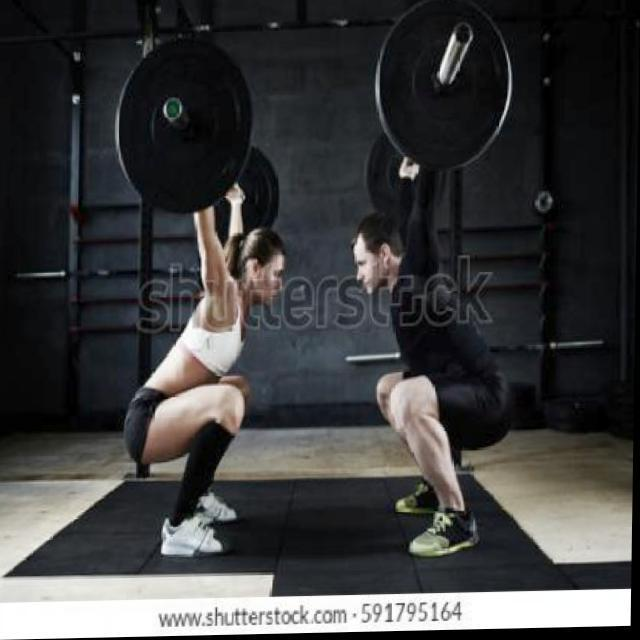barbell: (108, 26, 265, 225), (369, 1, 526, 179)
